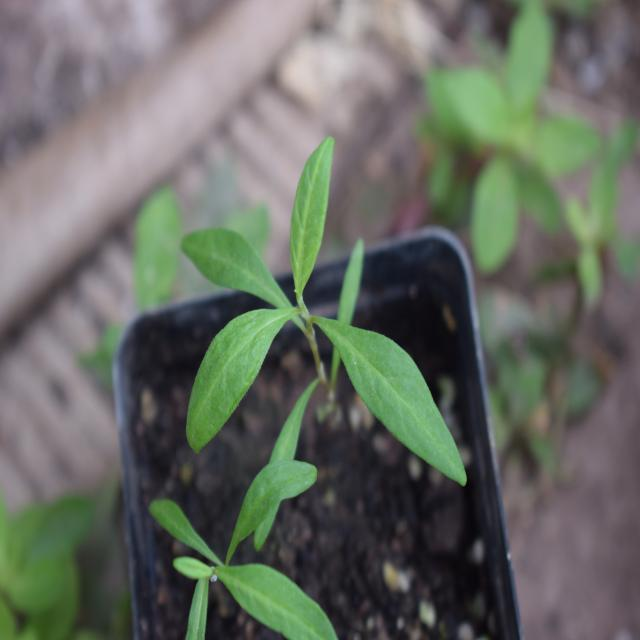white_smart_weed: (167, 151, 477, 527)
